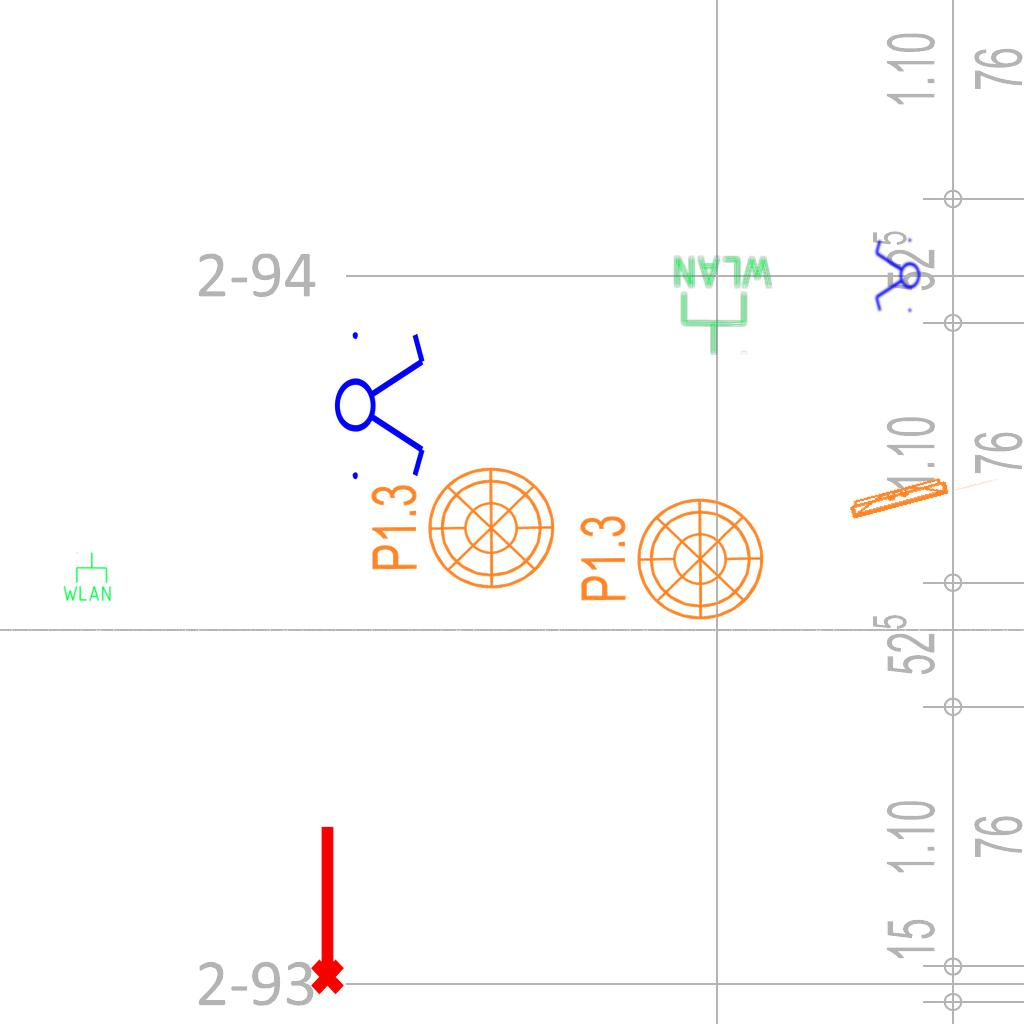ASR_Ansaugoeffnung: (302, 821, 348, 997)
Aufbaurundleuchte_LED_Treppenhaus: (353, 453, 558, 592), (562, 484, 767, 623)
Serienschalter: (333, 320, 429, 488), (873, 234, 921, 318)
Sicherheitsleuchte_Wandeinbau: (842, 457, 1003, 524)
WLAN: (671, 253, 776, 357), (61, 551, 113, 603)
